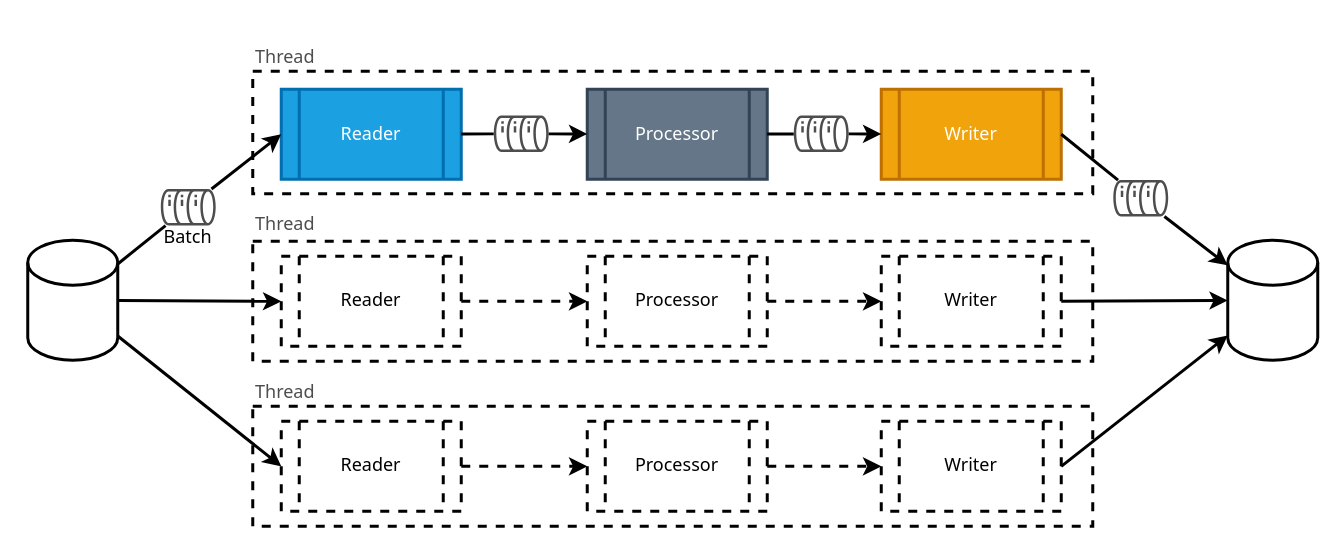
This 1344x554 diagram has some shape labels left out. Here are the shapes that lost their labels. From the top down, the centre of each, then its label:
(72,299): Source
(1272,299): Target
